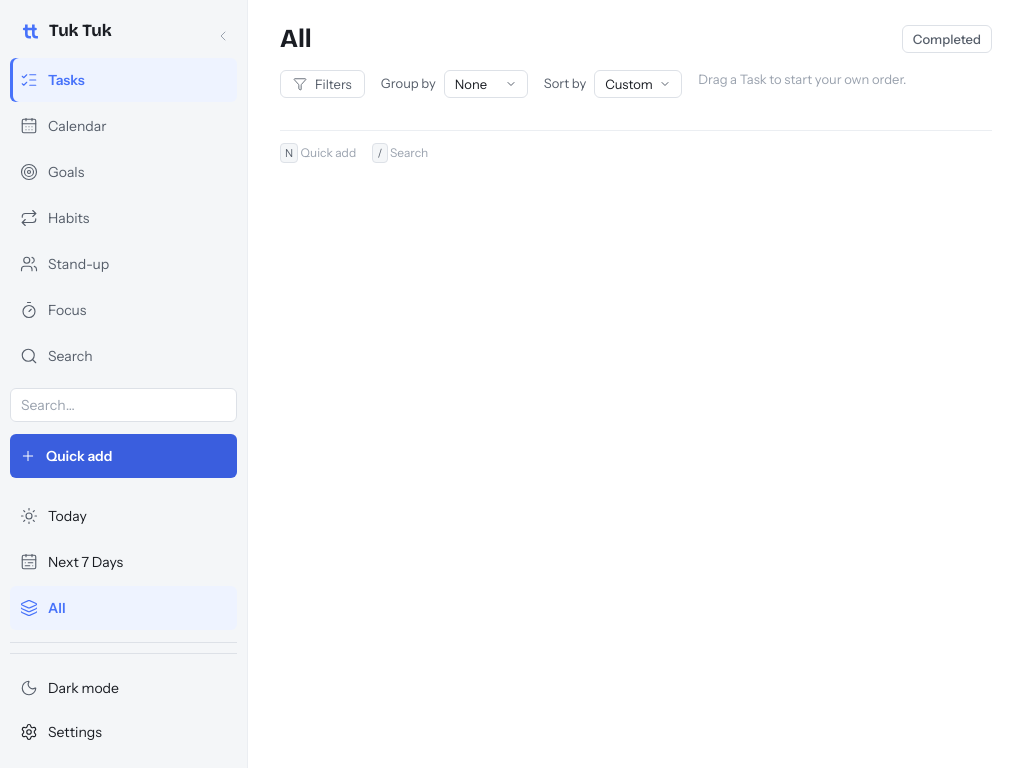
Scenario: The Month view › creates an all-day task from an empty cell
Click the link "Calendar": (63, 126) [20,116,106,135]
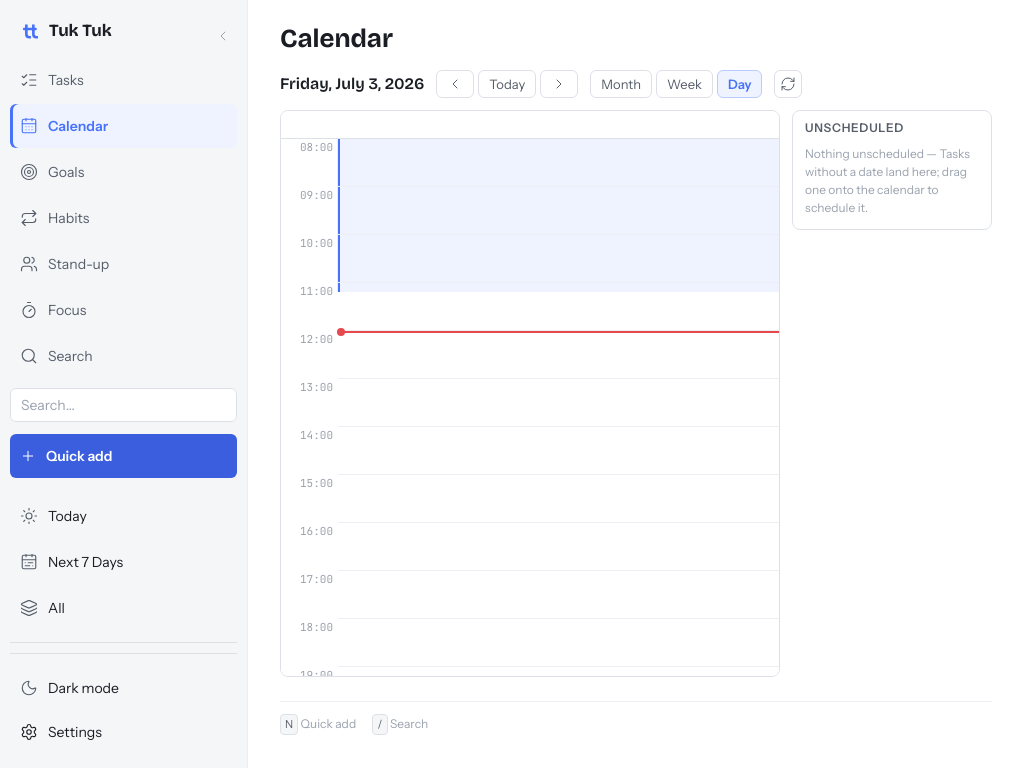
Expected: the heading "Friday, July 3, 2026" is shown, [280,72,424,96]
Click the button "Month": (621, 84) [590,70,652,98]
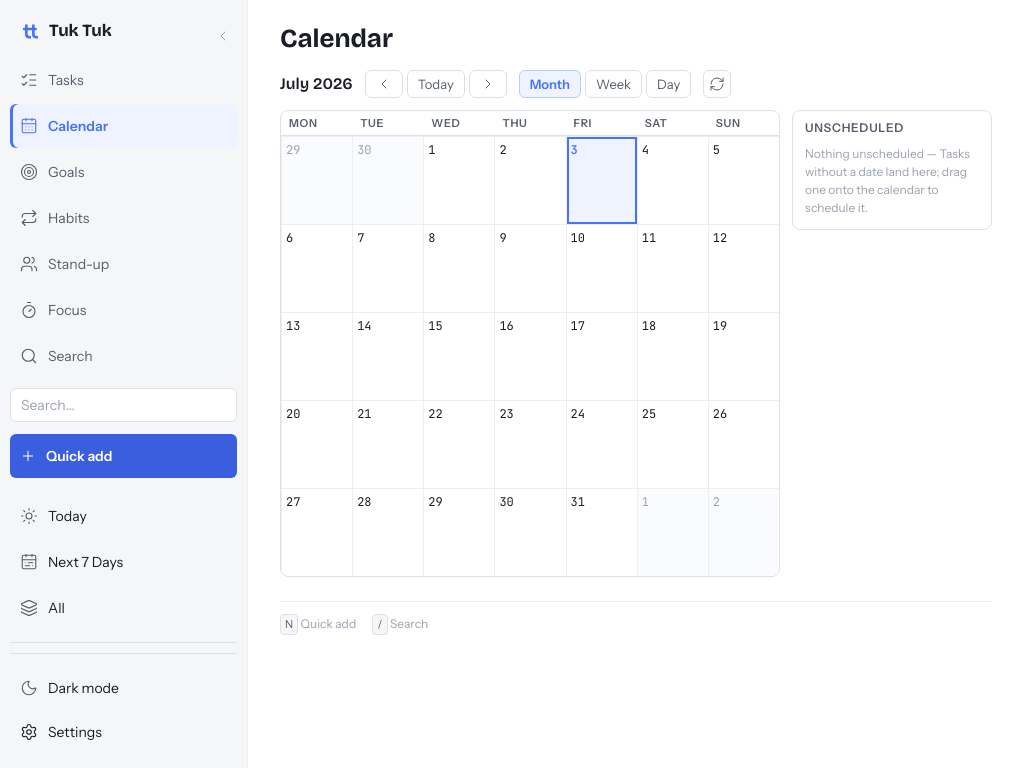
Expected: the heading "July 2026" is shown, [280,72,353,96]
Click the element named "2026-07-15": (459, 356) [423,312,494,400]
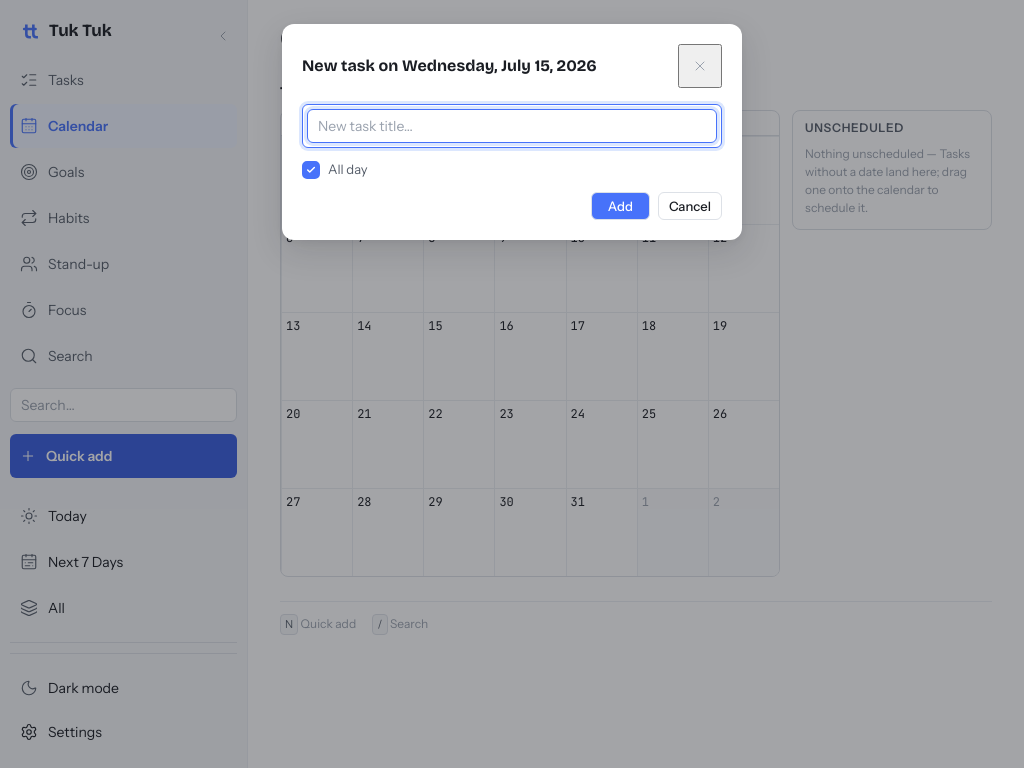
In the dropdown labelled "New task title": (512, 126) [307,109,717,143], type "Dentist"
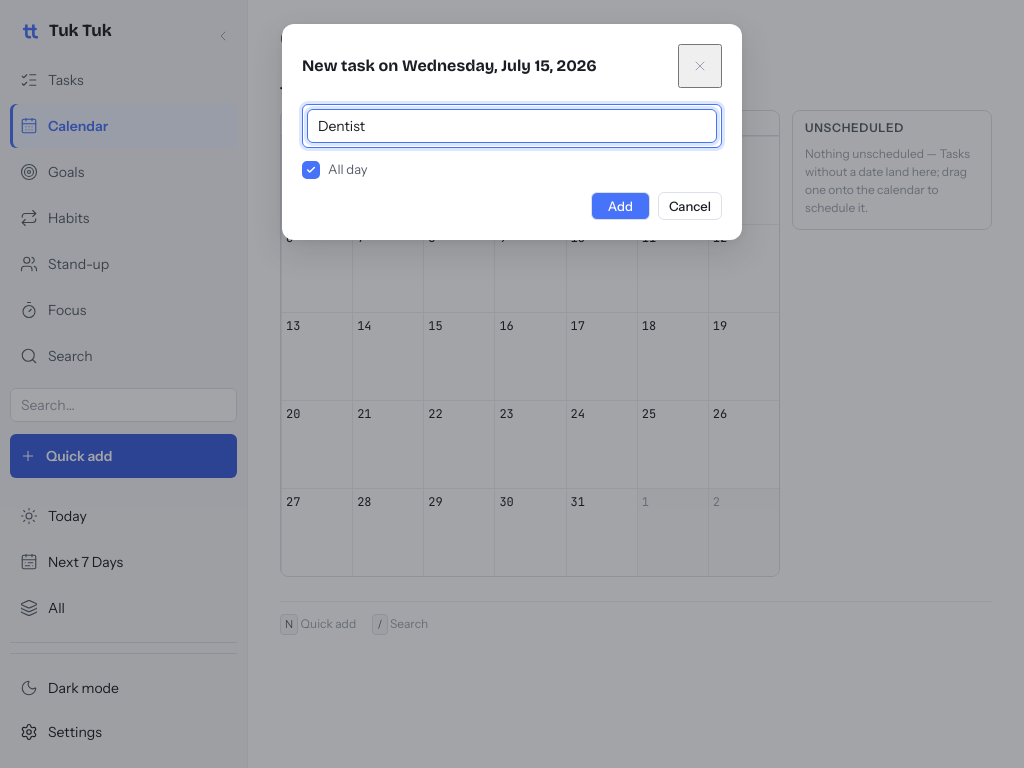
Submit the form from the dropdown named "New task title", box [307,109,717,143]
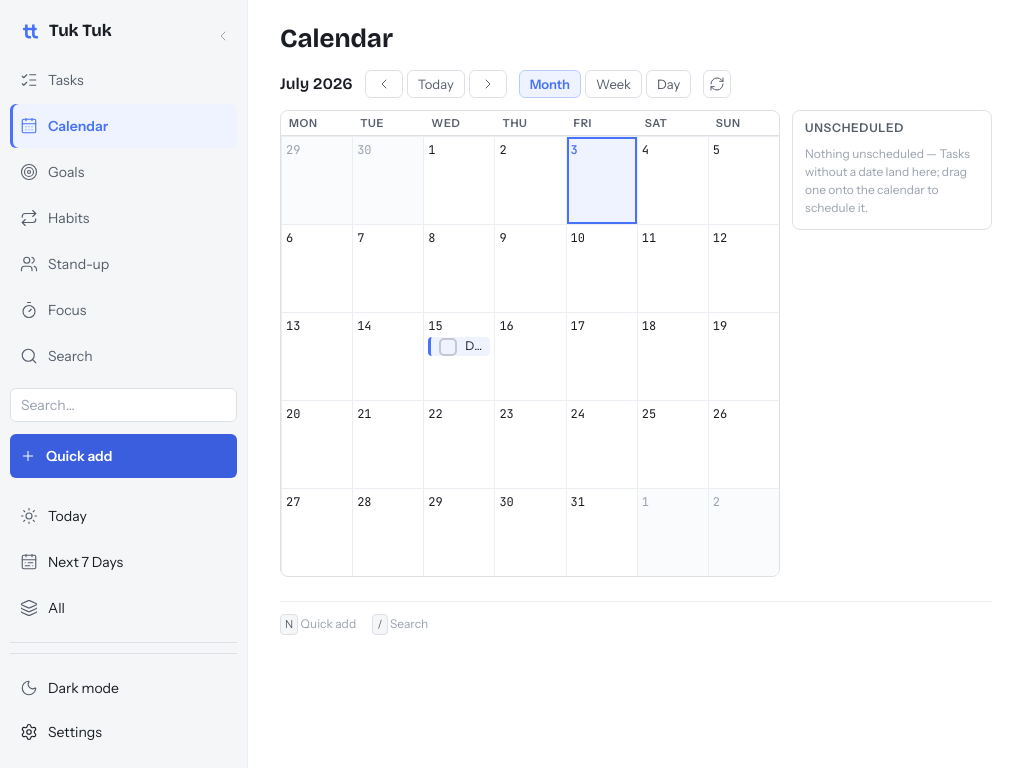
Expected: the text "Dentist" is shown, [465,338,490,353]
